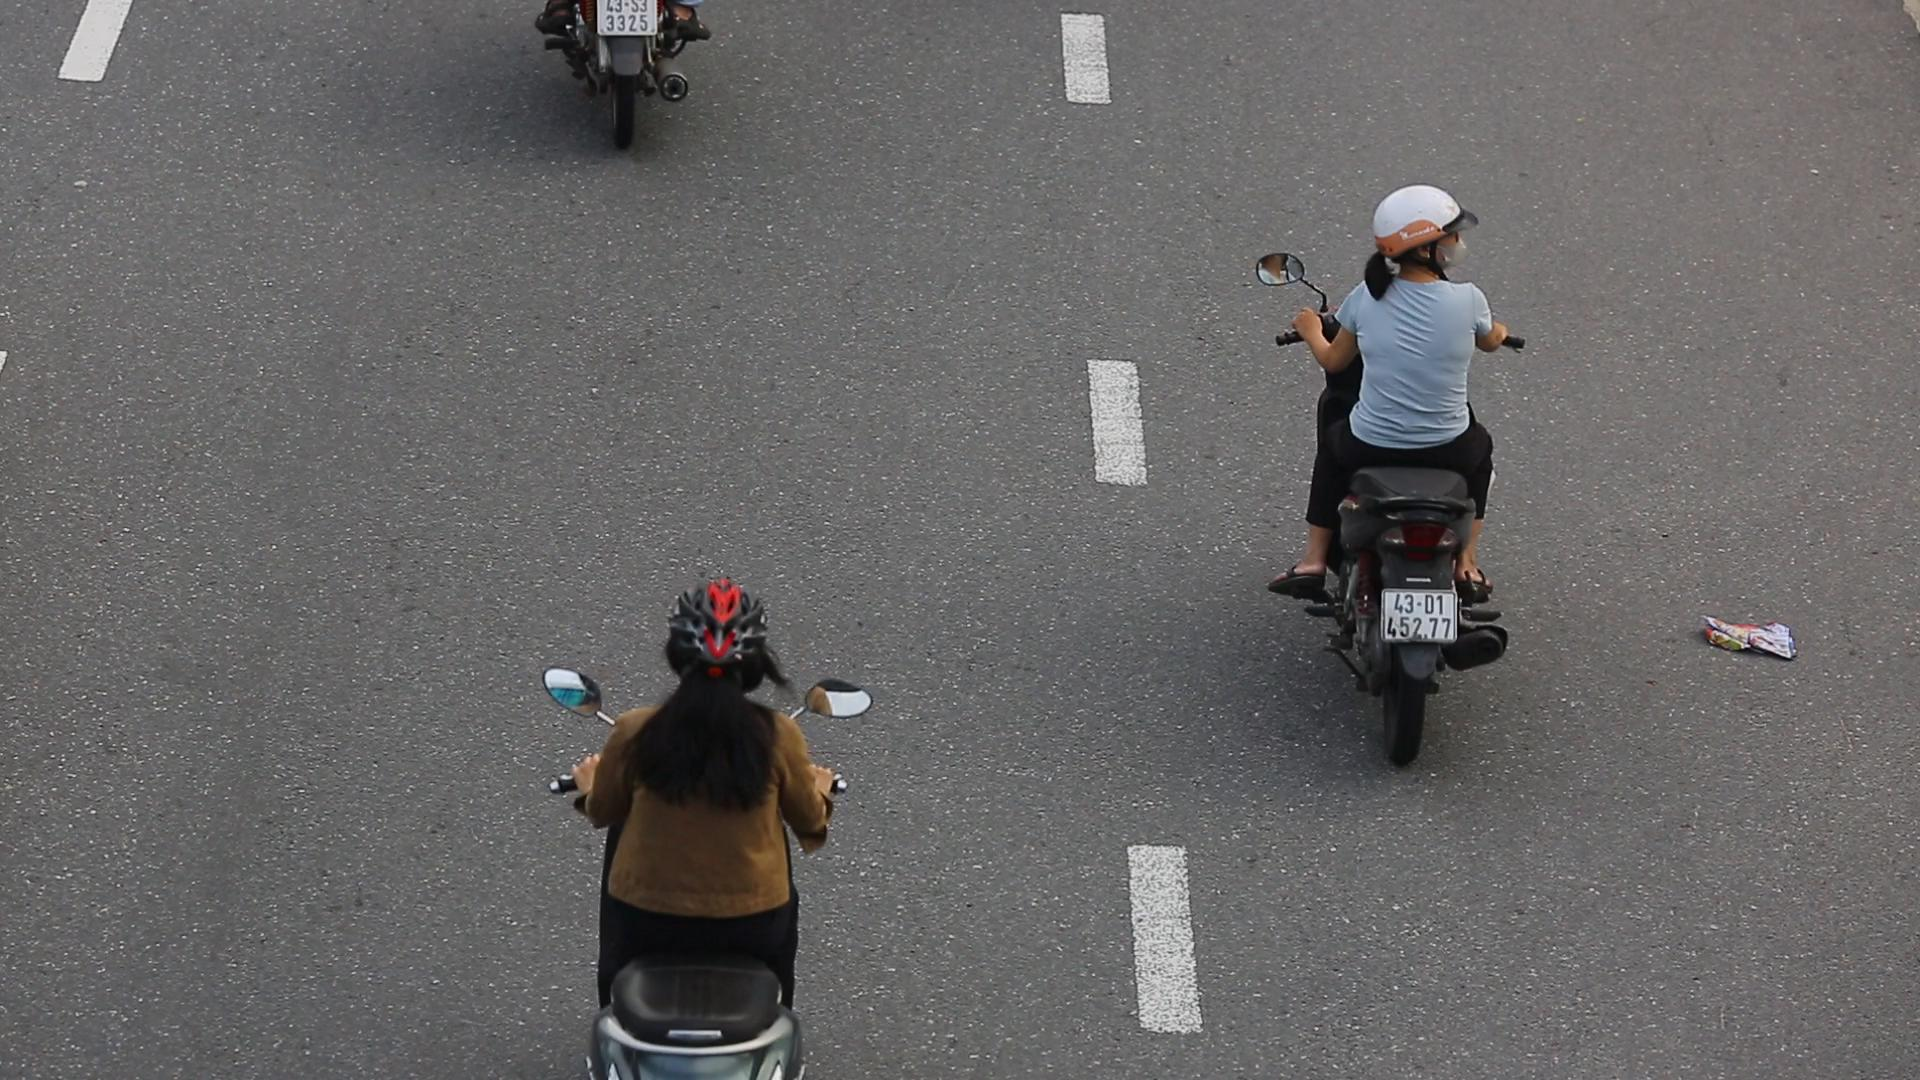motobike: (1221, 161, 1538, 786)
